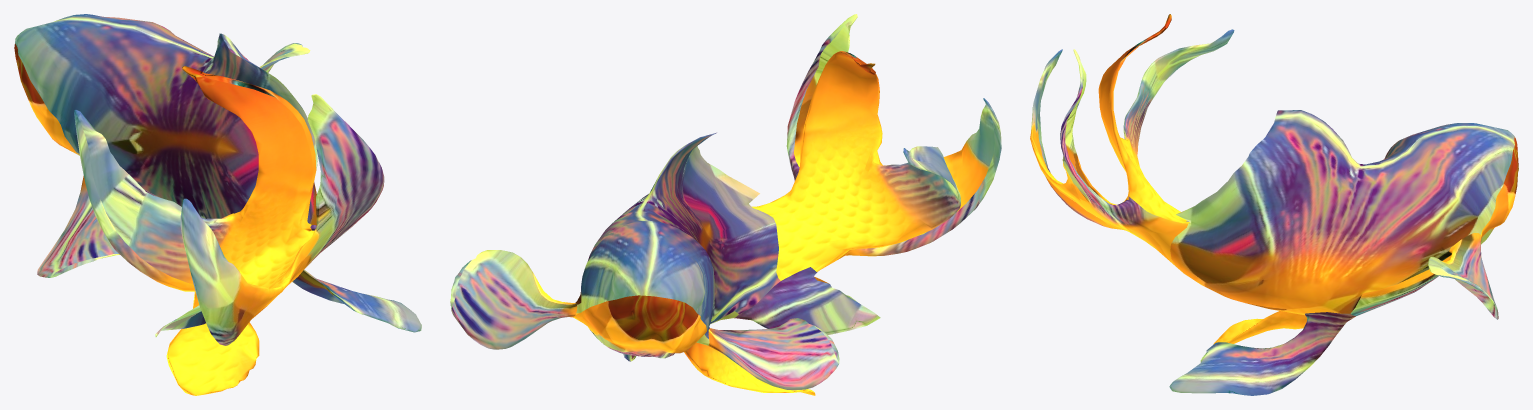
The model's file is goldfish.glb.
3 views of the same model, side by side, from view 1: azimuth 30°, elevation 25°; view 2: azimuth 150°, elevation 25°; view 3: azimuth 270°, elevation 25° (orthographic). The views are drawn at different scales.
Visible parts, largest first — view 1: G_Fish67; view 2: G_Fish67; view 3: G_Fish67.
Boxes of the visible parts, left/top/right/bottom form: G_Fish67: left=14, top=14, right=421, bottom=395; G_Fish67: left=450, top=14, right=1001, bottom=395; G_Fish67: left=1030, top=14, right=1518, bottom=395.
Size of the model in its own units: 0.1538 by 0.1392 by 0.2.
1 material, 1 textured.
